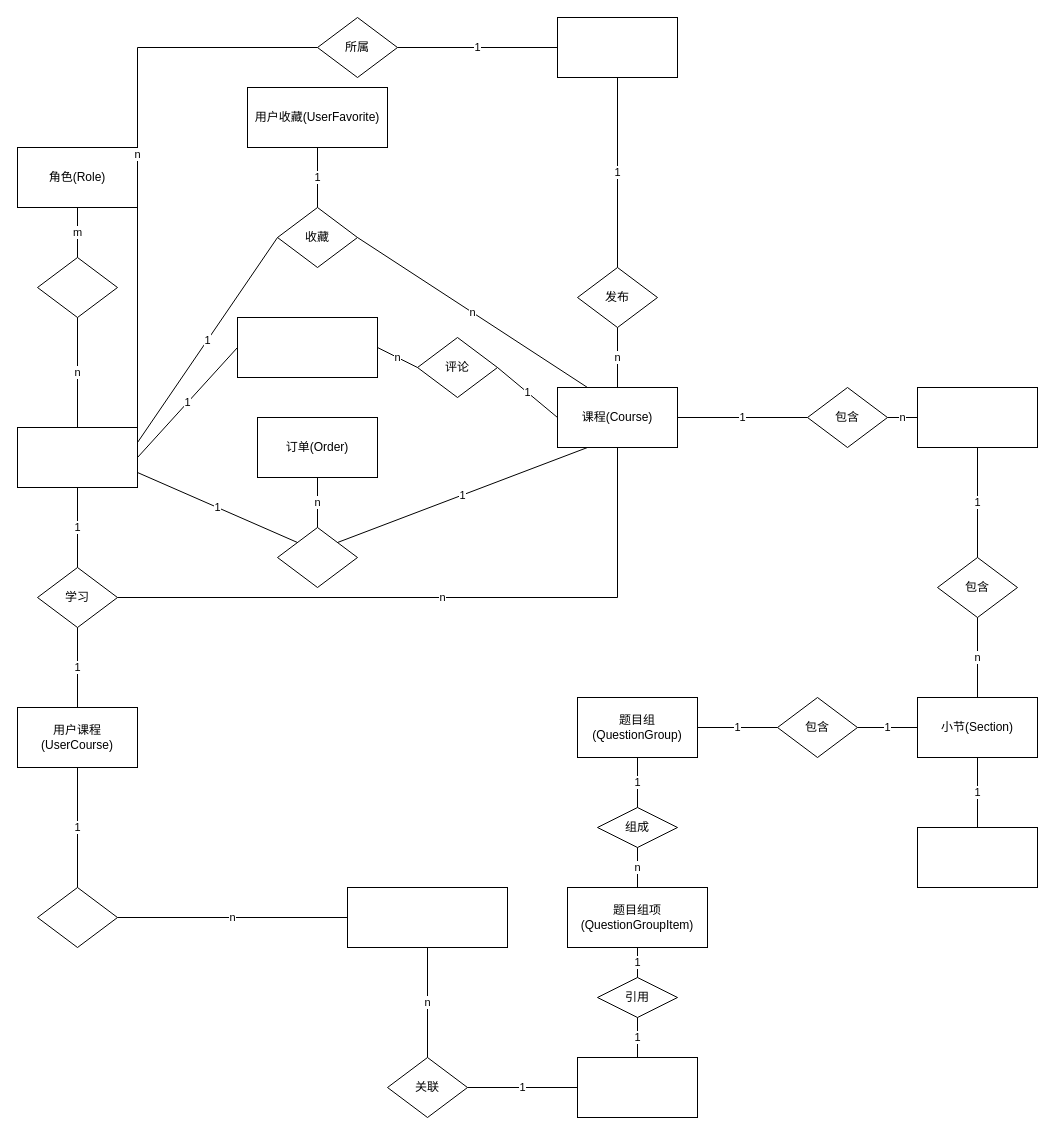
The diagram is 1055 pixels wide and 1135 high, and some of its shapes have lost their labels. The centre of each missing label's shape, as x and y in pixels:
"媒体(Media)" belongs at point 977,857.
"拥有" belongs at point 77,287.
"机构(Institution)" belongs at point 617,47.
"用户(User)" belongs at point 77,457.
"用户错题(UserWrongQuestion)" belongs at point 427,917.
"章节(Chapter)" belongs at point 977,417.
"记录" belongs at point 77,917.
"课程评论(CourseReview)" belongs at point 307,347.
"购买" belongs at point 317,557.
"题目(Question)" belongs at point 637,1087.
